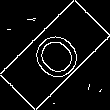O_SE: (22, 22, 88, 88)
